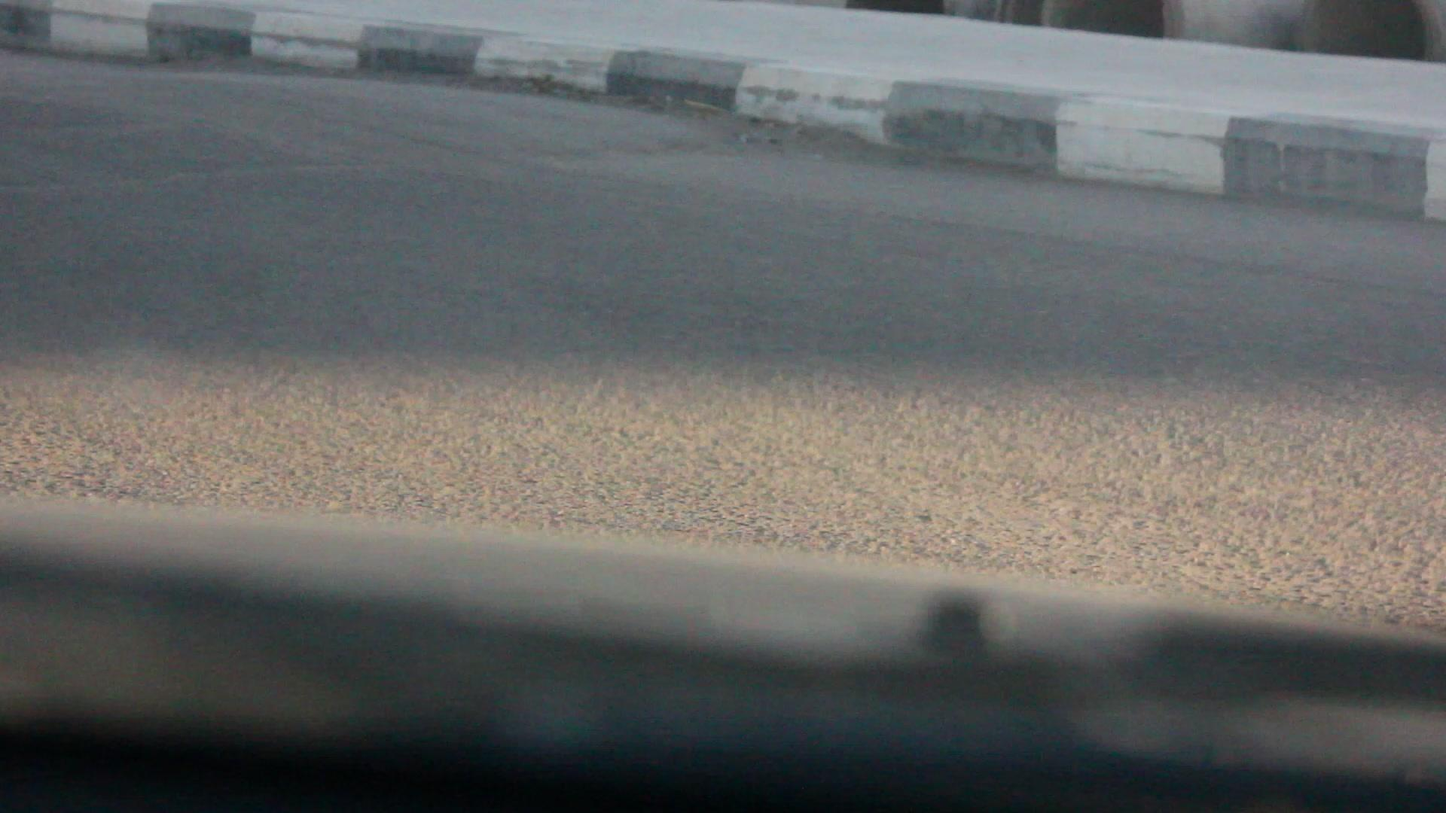Bump: (0, 60, 783, 179)
